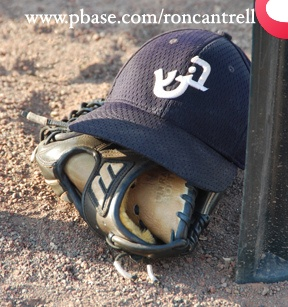love: (255, 0, 288, 39)
